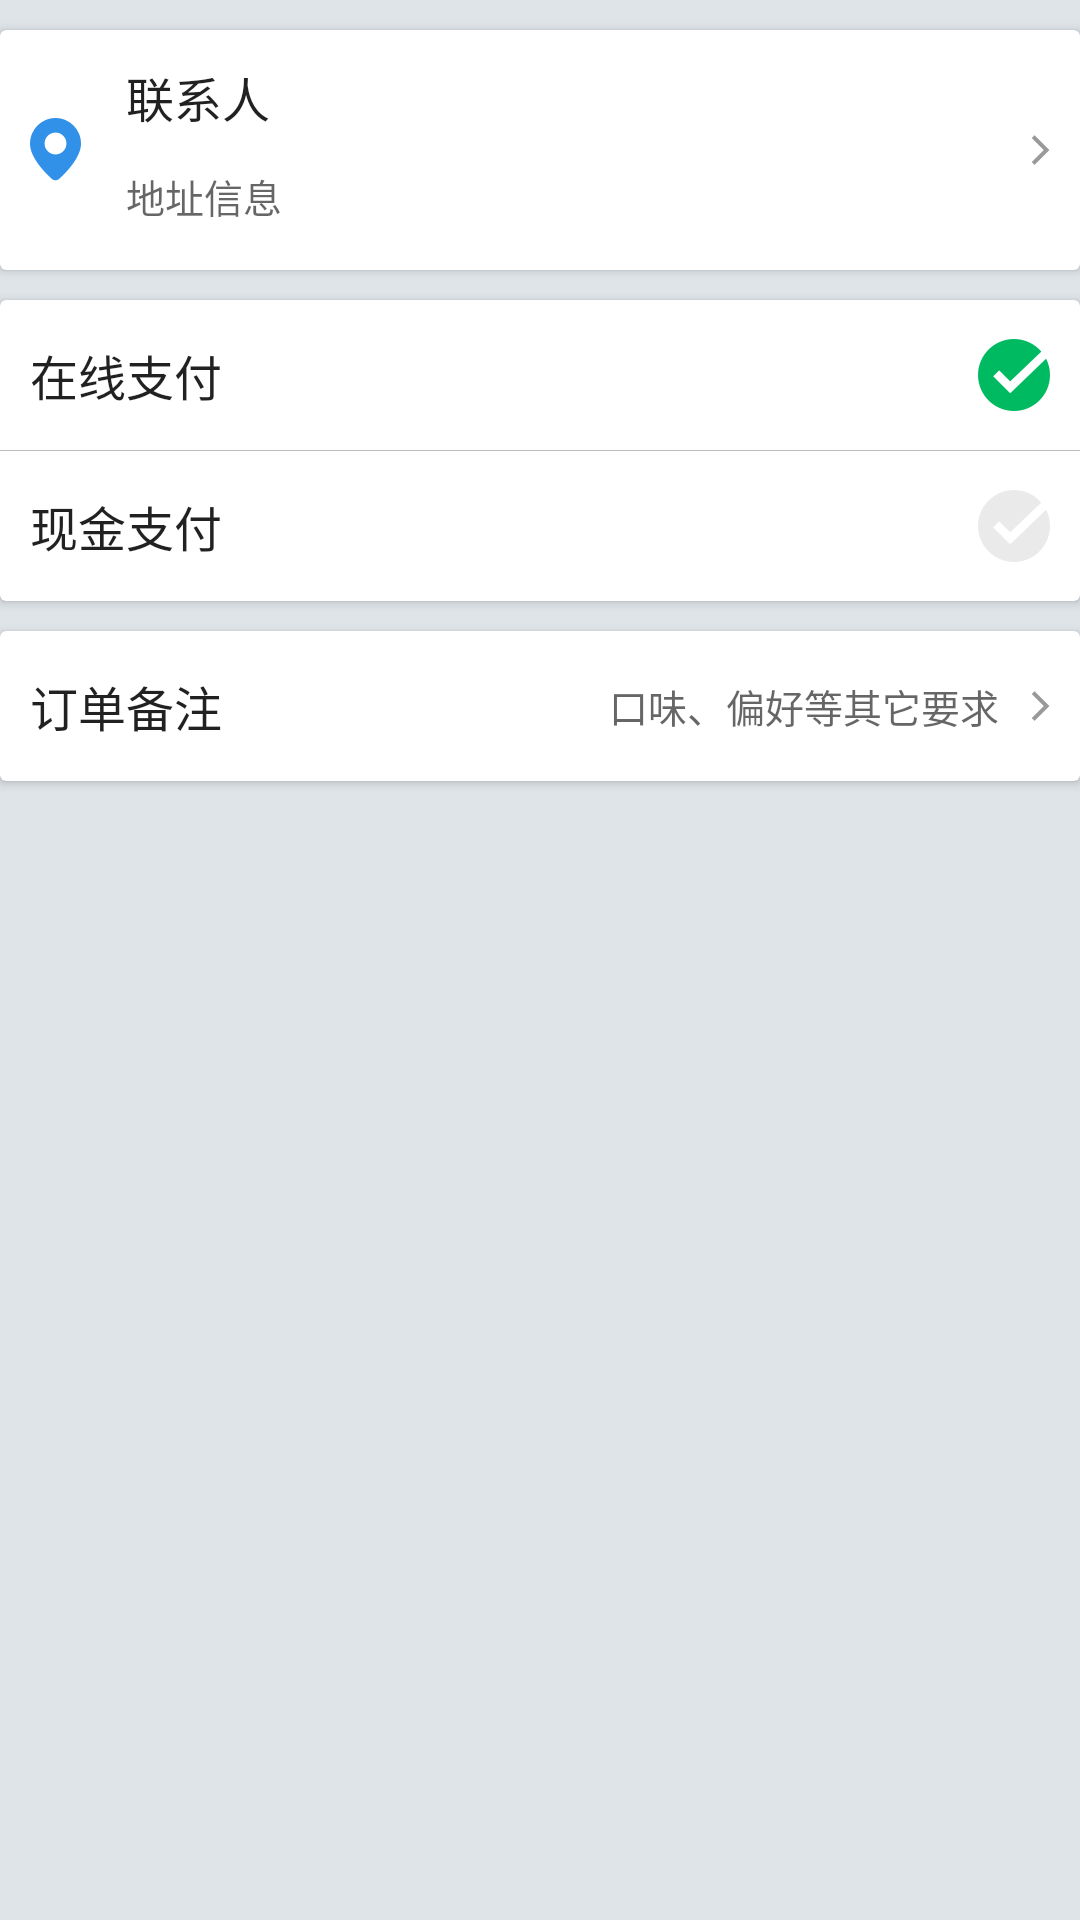

Where to tap for icons on this 1080px×1920px app screen, as (x,y):
位置: (55,149)
选中: (1014,375)
